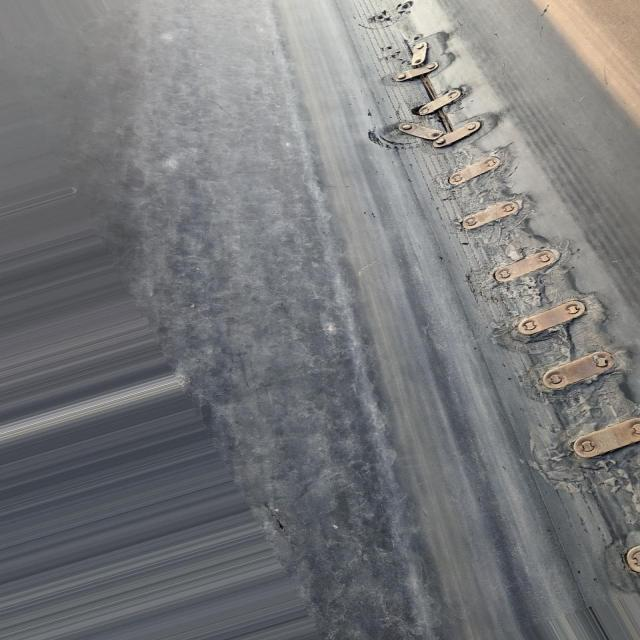patch work: (355, 0, 640, 595)
